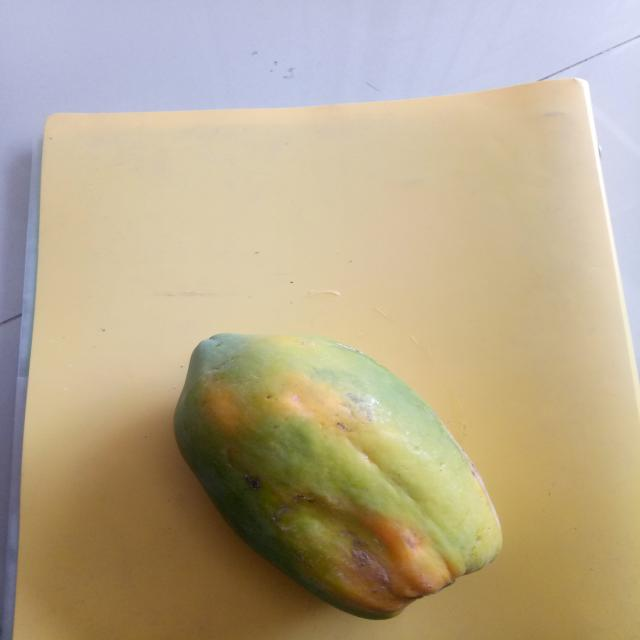Pepaya rippen: (164, 320, 517, 634)
